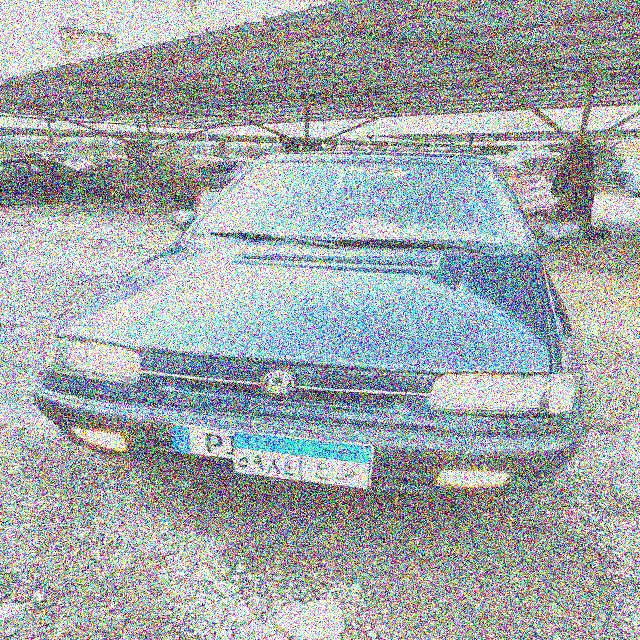License Plate: (230, 430, 377, 492)
